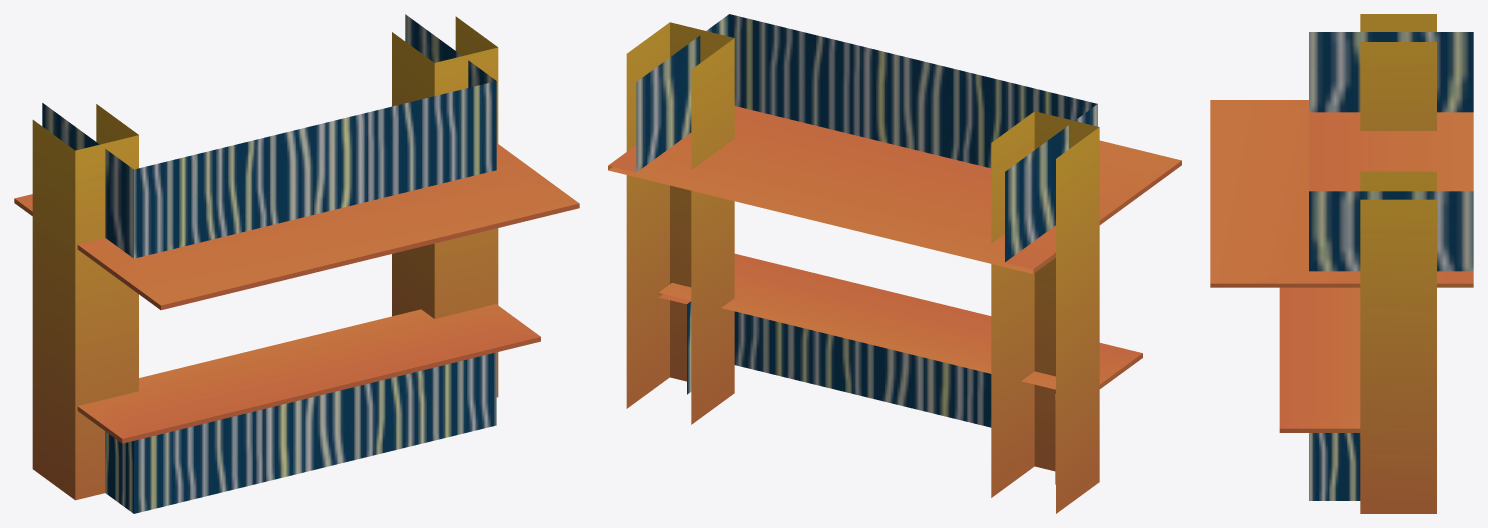
The model's file is Barra2.fbx.
3 views of the same model, side by side, from view 1: azimuth 30°, elevation 25°; view 2: azimuth 150°, elevation 25°; view 3: azimuth 270°, elevation 25° (orthographic). The views are drawn at different scales.
Parts seen in each view (by area): view 1: Box008; view 2: Box008; view 3: Box008.
Part boxes in pixels (bbox=[...]): Box008: bbox=[14, 14, 579, 513]; Box008: bbox=[608, 14, 1181, 513]; Box008: bbox=[1210, 14, 1473, 513].
Bounding box in the file's own units: 348 × 275 × 209.
